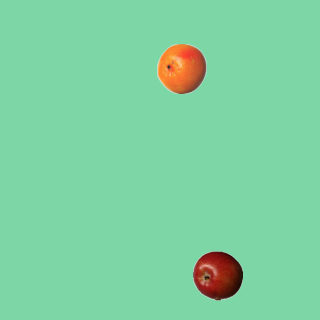Apple Braeburn: (192, 250, 242, 300)
Grapefruit Pink: (156, 43, 206, 93)
